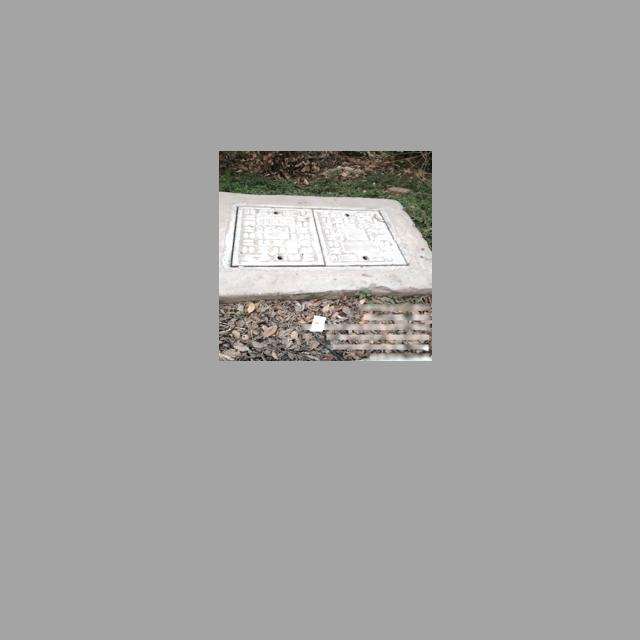good: (227, 204, 392, 272)
